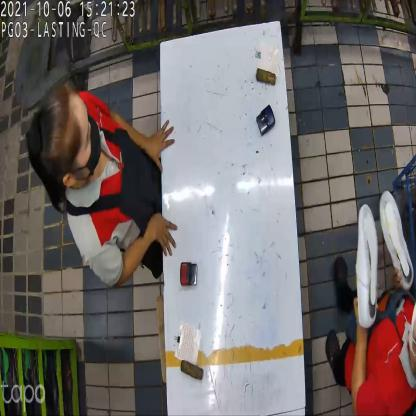shoes: (356, 191, 414, 329)
stamp: (257, 103, 276, 136), (179, 258, 197, 288)
